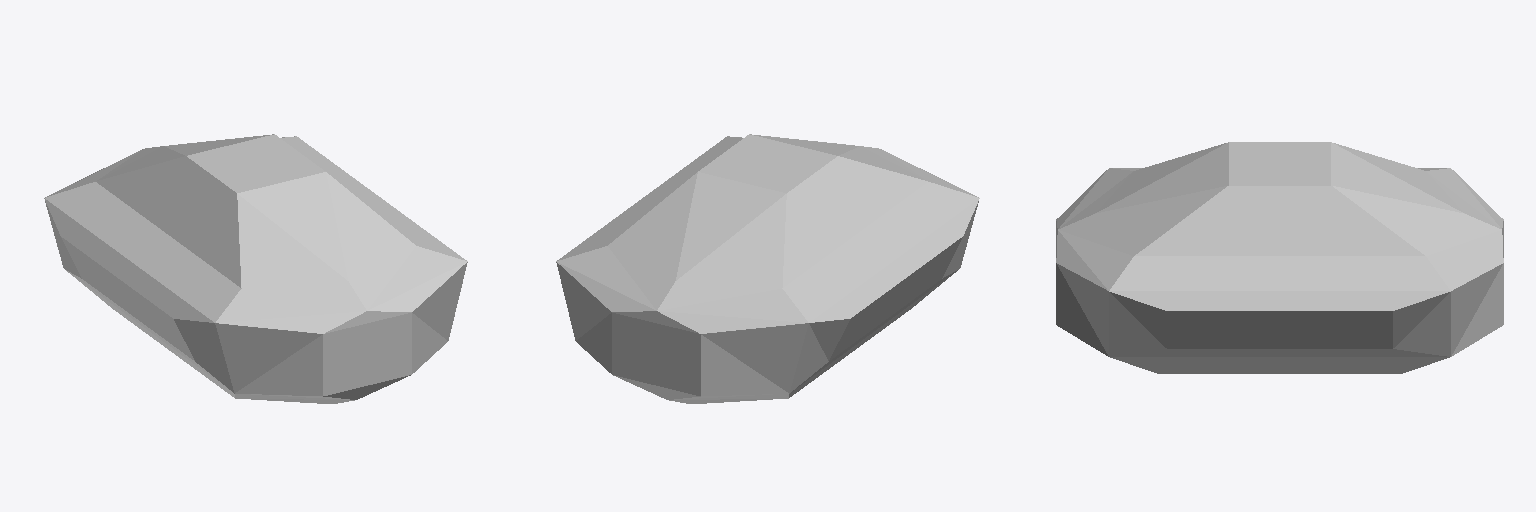
Rendered from expansion_bay.obj.
3 views of the same model, side by side, from view 1: azimuth 30°, elevation 25°; view 2: azimuth 150°, elevation 25°; view 3: azimuth 270°, elevation 25° (orthographic).
Parts seen in each view (by area): view 1: Cube; view 2: Cube; view 3: Cube.
Part boxes in pixels (x1,y1,x2,y2): Cube: (44,134,467,403); Cube: (556,134,979,403); Cube: (1056,142,1503,373).
Bounding box in the file's own units: 1.88 × 1.19 × 2.62.